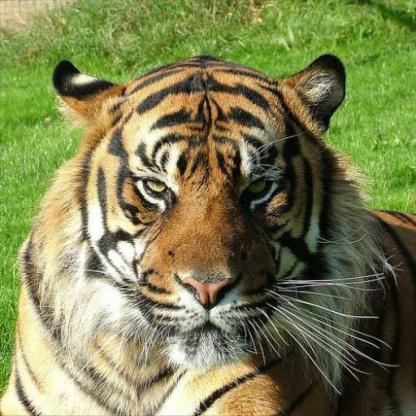Tiger: (0, 33, 415, 415)
